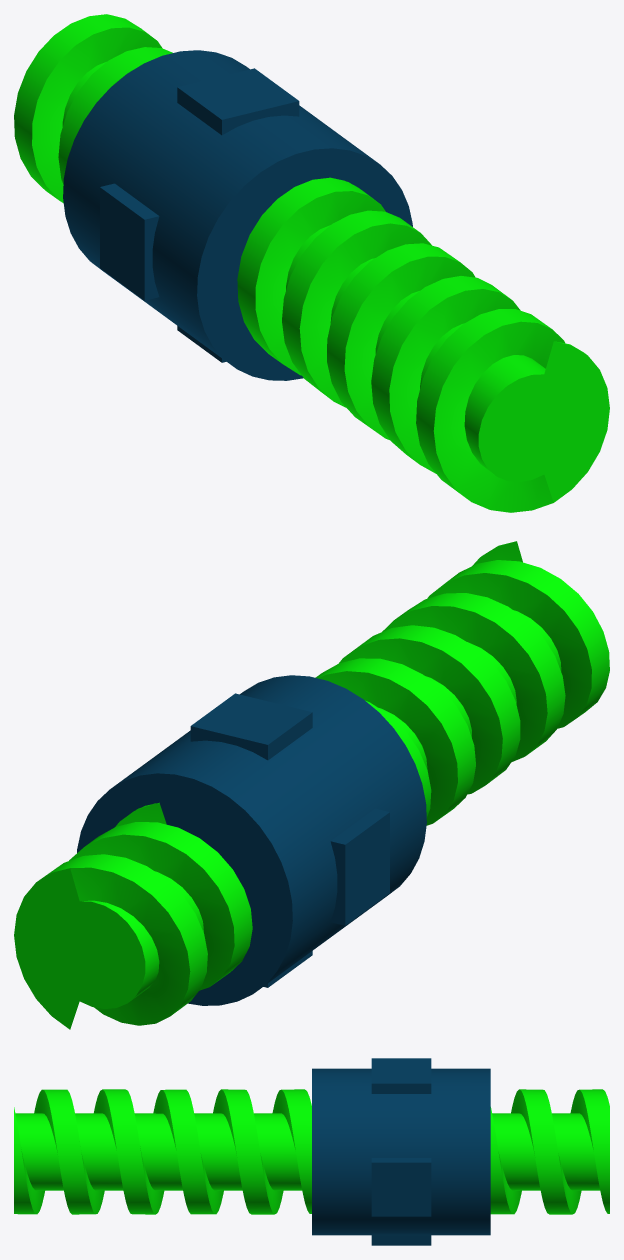
File: linear-screw-1000-assy.glb
The picture shows the model from 3 angles, top to bottom: view 1: azimuth 30°, elevation 25°; view 2: azimuth 150°, elevation 25°; view 3: azimuth 270°, elevation 25°; orthographic projection. The views are drawn at different scales.
Parts seen in each view (by area): view 1: Body4_2, Body1_1; view 2: Body4_2, Body1_1; view 3: Body4_2, Body1_1.
Boxes of the visible parts, x1,y1,x2,y2 form: Body4_2: (14,14,609,512); Body1_1: (63,50,412,380); Body4_2: (14,541,609,1029); Body1_1: (77,675,426,1005); Body4_2: (14,1089,609,1214); Body1_1: (312,1058,490,1245).
Size of the model in its own units: 0.3 by 0.3 by 1.
